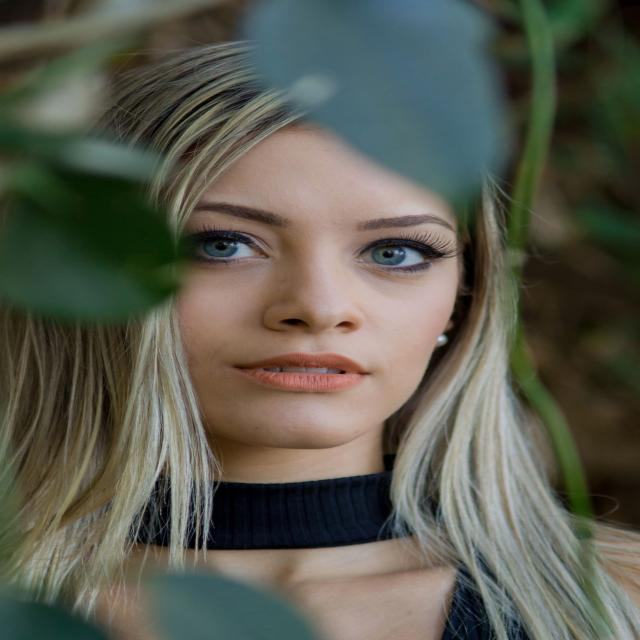adult: (30, 24, 583, 640)
